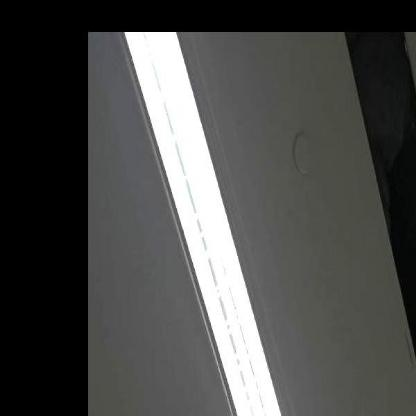light_on: (120, 32, 302, 415)
